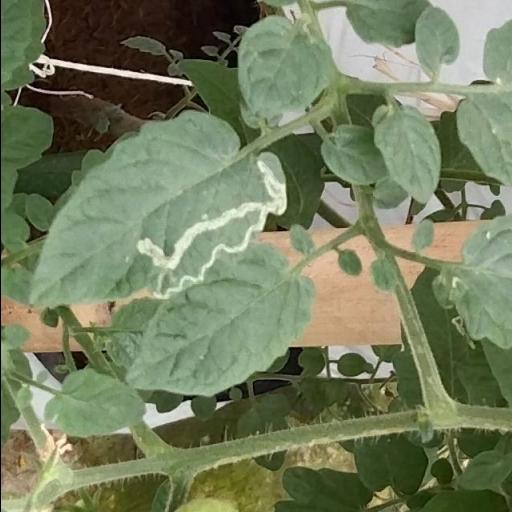Healthy: (119, 246, 317, 398), (232, 10, 335, 118), (42, 366, 149, 438), (412, 4, 462, 76)
Leaf Miner: (24, 108, 290, 312)
